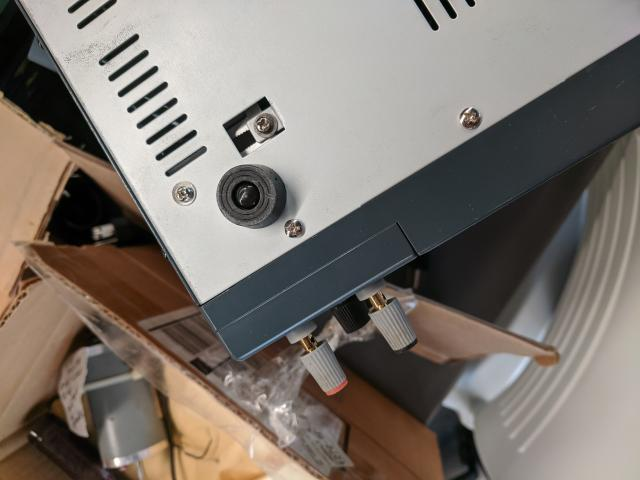CRS: (458, 106, 483, 129), (253, 115, 274, 136), (284, 218, 304, 238), (177, 185, 196, 203)
